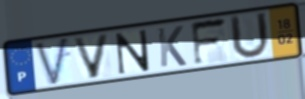F: (189, 15, 230, 68)
K: (155, 24, 189, 69)
N: (114, 28, 152, 77)
U: (228, 11, 272, 61)
V: (32, 35, 71, 88), (71, 32, 112, 81)
